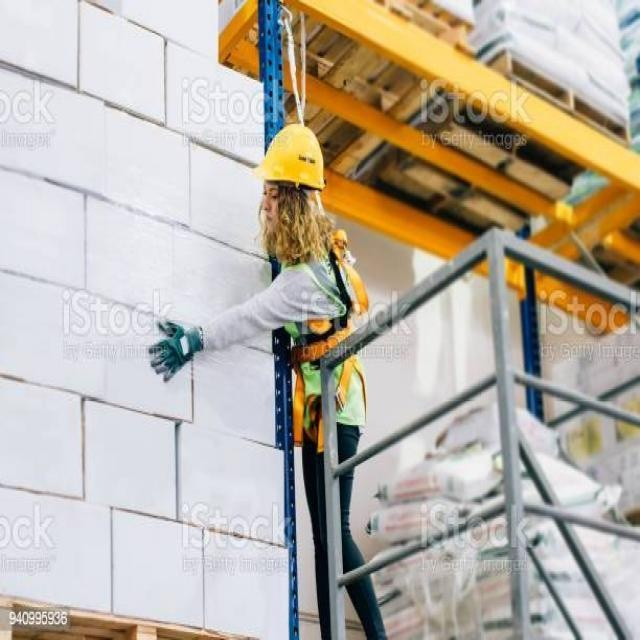Arnes_seguridad: (285, 231, 373, 450)
